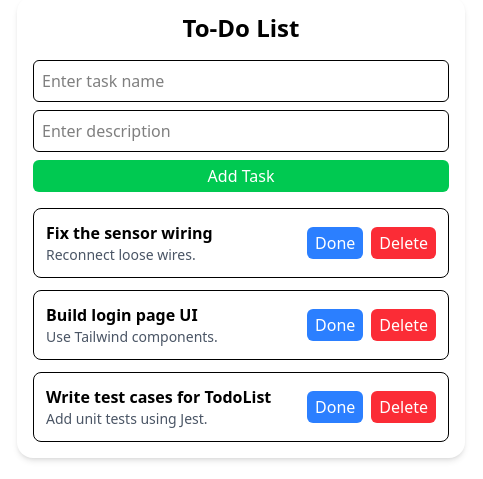
Test: TodoList Component › deletes a todo
The width and height of the screenshot is (483, 479).
Click the button "Delete" in the row of "Fix the sensor wiring" at (404, 243), box [371,227,436,259]
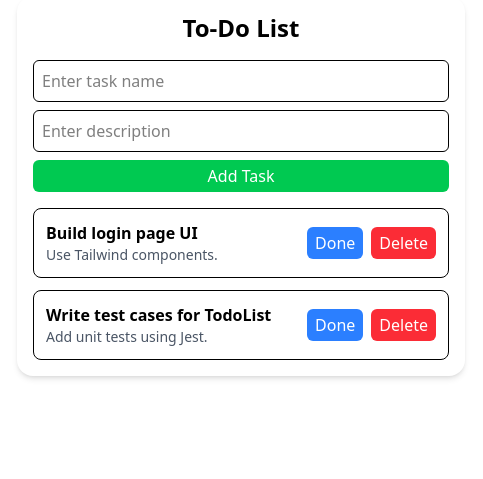
expect the heading "Fix the sensor wiring" is gone: met
